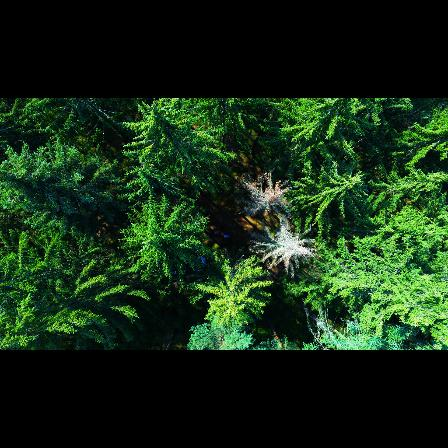Dead: (246, 217, 317, 278), (232, 170, 294, 213)
